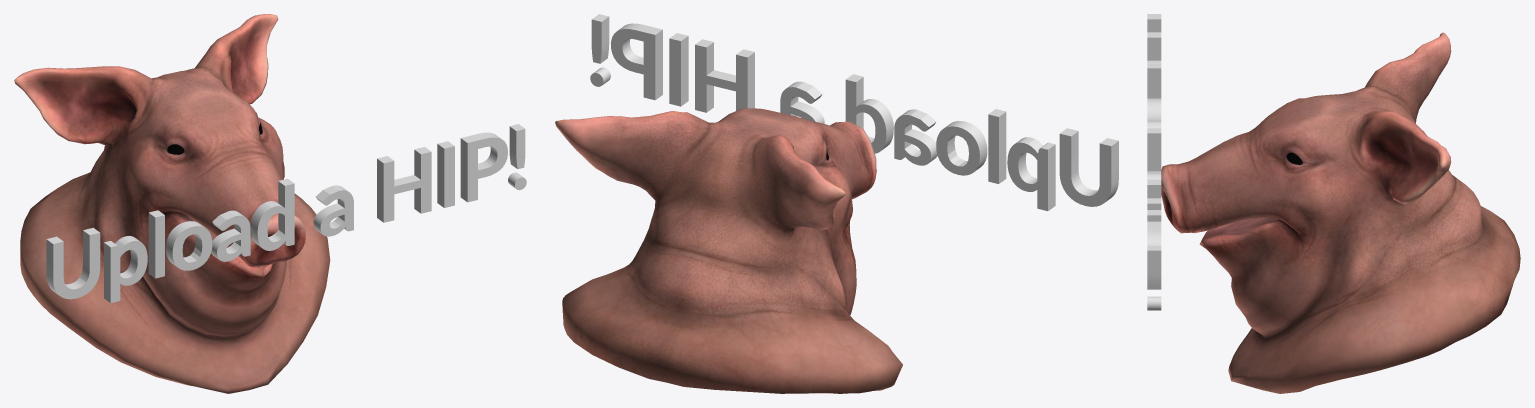
File: placeholder.glb
3 views of the same model, side by side, from view 1: azimuth 30°, elevation 25°; view 2: azimuth 150°, elevation 25°; view 3: azimuth 270°, elevation 25° (orthographic). The views are drawn at different scales.
Visible parts, largest first — view 1: geo2, geo1; view 2: geo2, geo1; view 3: geo2, geo1.
Boxes of the visible parts, box(x1,y1,x2,y2) form: geo2: box(14, 14, 330, 393); geo1: box(46, 124, 526, 303); geo2: box(555, 108, 902, 393); geo1: box(590, 14, 1118, 211); geo2: box(1161, 32, 1520, 393); geo1: box(1147, 14, 1161, 310).
Bounding box in the file's own units: 6.03 × 3.37 × 4.01.
Materials: 3 (1 with a texture image).
